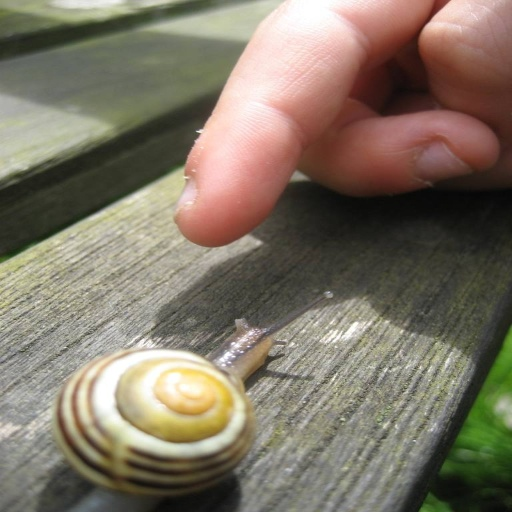hand: (148, 0, 512, 232)
